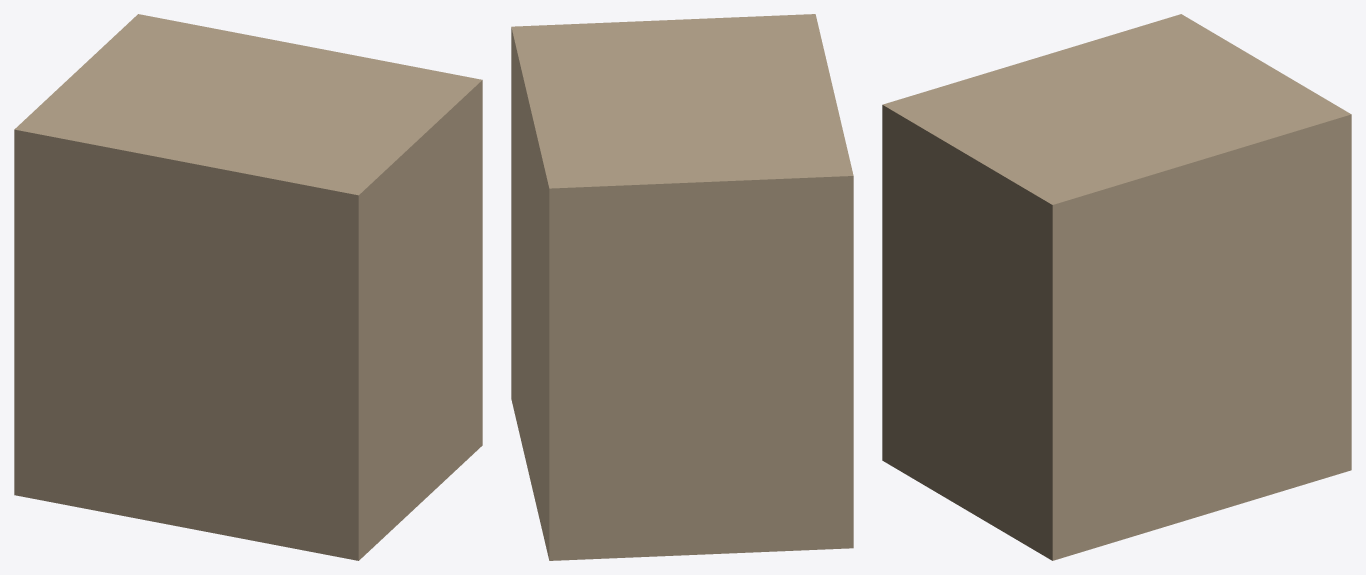
The model's file is bld_105794204.dae.
3 views of the same model, side by side, from view 1: azimuth 30°, elevation 25°; view 2: azimuth 150°, elevation 25°; view 3: azimuth 270°, elevation 25° (orthographic). The views are drawn at different scales.
Parts seen in each view (by area): view 1: bld_105794204; view 2: bld_105794204; view 3: bld_105794204.
Part boxes in pixels (x1,y1,x2,y2): bld_105794204: (14,14,482,560); bld_105794204: (511,14,853,560); bld_105794204: (882,14,1351,560).
Size of the model in its own units: 9.21 by 9.56 by 8.
